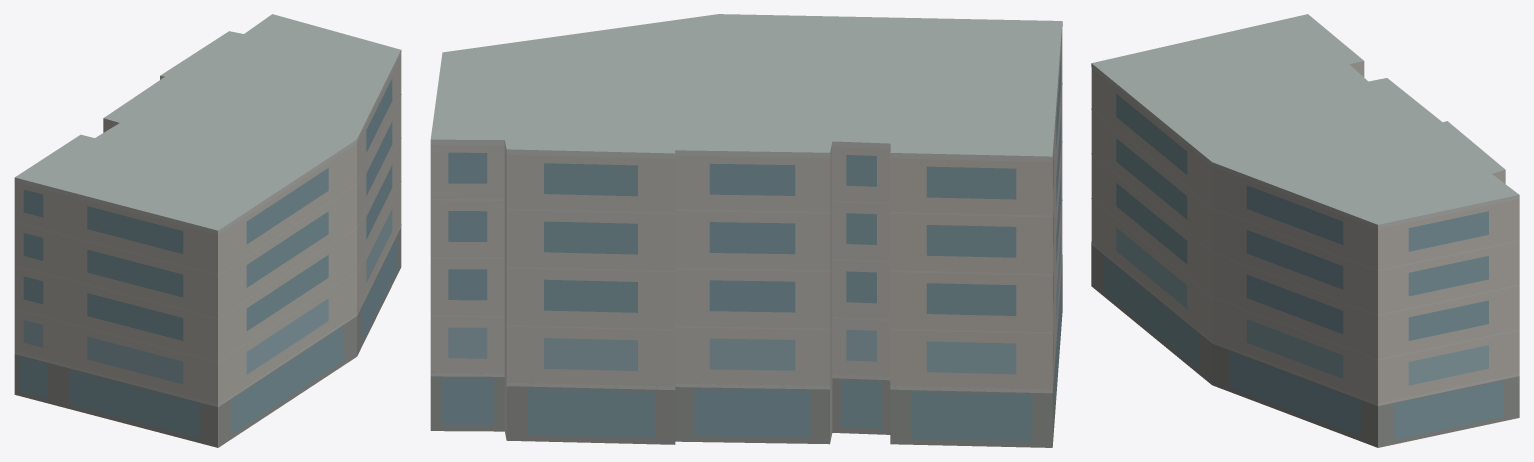
File: survey-upis-32697348.glb
3 renders of one model, left to right at view 1: azimuth 30°, elevation 25°; view 2: azimuth 150°, elevation 25°; view 3: azimuth 270°, elevation 25°, orthographic. The views are drawn at different scales.
Parts seen in each view (by area): view 1: survey-upis-32697348.tmp; view 2: survey-upis-32697348.tmp; view 3: survey-upis-32697348.tmp.
Part boxes in pixels (bbox=[...]): survey-upis-32697348.tmp: bbox=[14, 14, 401, 447]; survey-upis-32697348.tmp: bbox=[430, 14, 1062, 447]; survey-upis-32697348.tmp: bbox=[1091, 14, 1519, 447].
Bounding box in the file's own units: 26.38 × 13 × 22.63.
